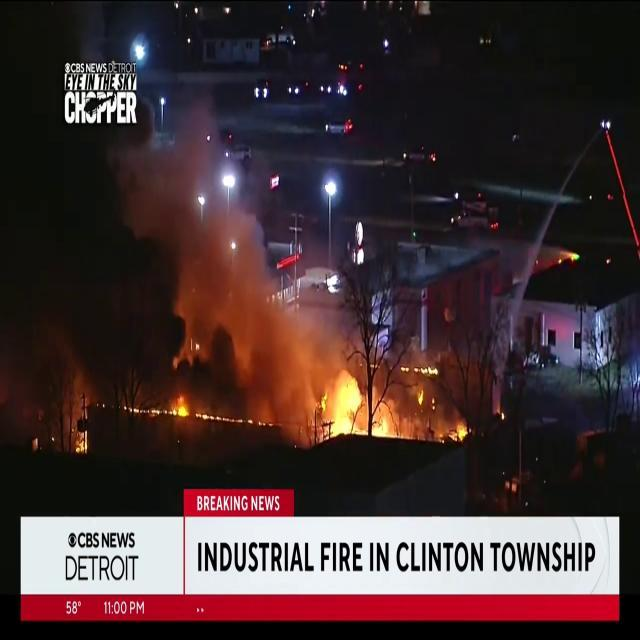Fire: (319, 368, 396, 442), (165, 392, 201, 425)
Smoke: (182, 178, 340, 428)
